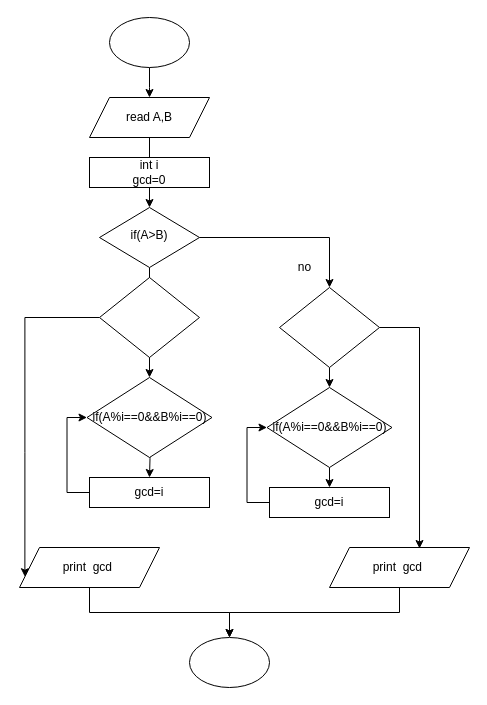
Some shapes in this 487 by 705 pixel diagram are drawn without their labels. The centre of each missing label's shape, as x and y in pixels:
"for(i=1;i<=A;i++)" belongs at (x=329, y=327).
"for(i=1;i<=B;i++)" belongs at (x=149, y=317).
"START" belongs at (x=149, y=42).
"STOP" belongs at (x=229, y=662).
